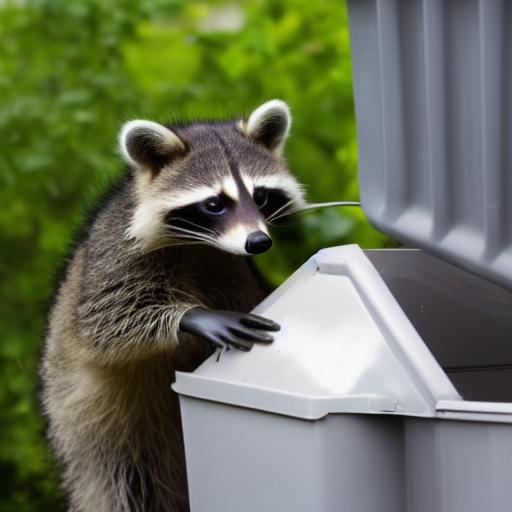raccoon: (32, 95, 312, 512)
